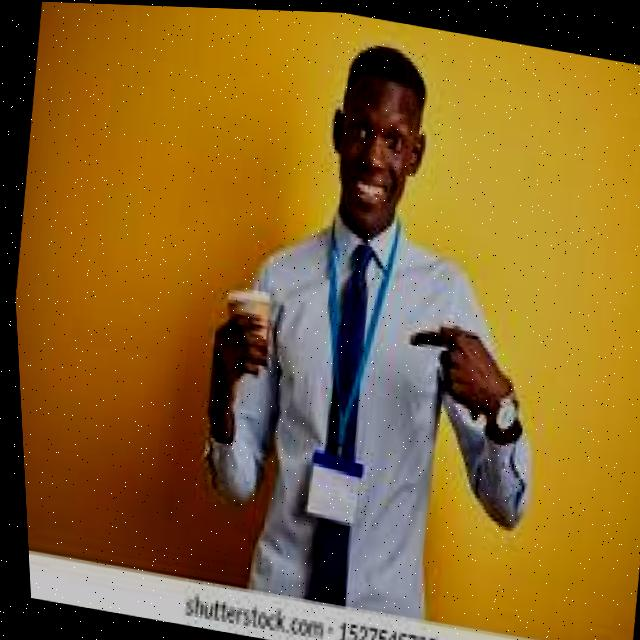id_card: (277, 222, 406, 534)
